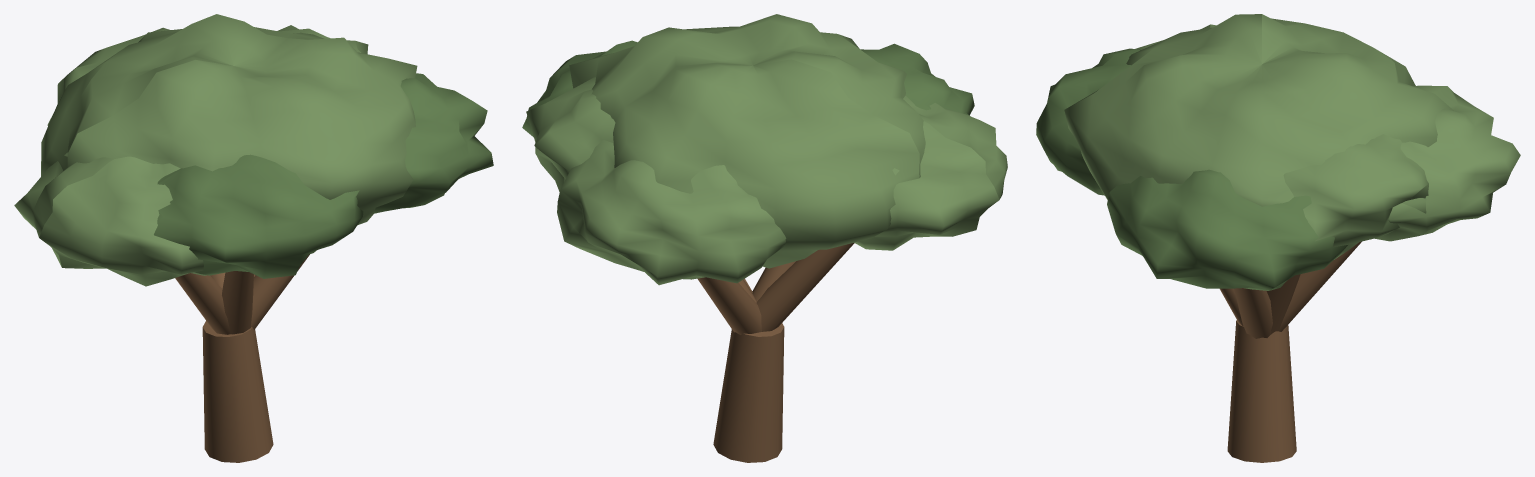
File: naspolya.glb
3 renders of one model, left to right at view 1: azimuth 30°, elevation 25°; view 2: azimuth 150°, elevation 25°; view 3: azimuth 270°, elevation 25°, orthographic.
Parts seen in each view (by area): view 1: korona-tomeg, korona-4, korona-1, korona-2, torzs, ag-1, ag-4, ag-2, korona-3; view 2: korona-tomeg, korona-3, korona-1, torzs, korona-5, ag-1, korona-4, ag-3, korona-2, ag-4; view 3: korona-tomeg, korona-2, korona-3, korona-5, torzs, korona-4, ag-2, ag-3, ag-5.
Part boxes in pixels (x1,y1,x2,y2): korona-tomeg: (41, 14, 417, 225); korona-4: (143, 154, 363, 278); korona-1: (14, 152, 206, 286); korona-2: (373, 73, 493, 213); torzs: (202, 321, 273, 462); ag-1: (175, 273, 230, 334); ag-4: (222, 271, 253, 334); ag-2: (251, 254, 309, 329); korona-3: (47, 27, 170, 125); korona-tomeg: (563, 14, 925, 268); korona-3: (549, 140, 786, 285); korona-1: (854, 96, 1007, 250); torzs: (713, 323, 784, 462); korona-5: (526, 77, 615, 179); ag-1: (756, 243, 854, 331); korona-4: (860, 43, 974, 115); ag-3: (697, 277, 761, 334); korona-2: (522, 40, 637, 137); ag-4: (752, 261, 795, 301); korona-tomeg: (1064, 14, 1453, 259); korona-2: (1107, 169, 1347, 290); korona-3: (1375, 85, 1520, 241); korona-5: (1283, 134, 1428, 247); torzs: (1227, 320, 1296, 462); korona-4: (1036, 48, 1140, 195); ag-2: (1234, 288, 1272, 338); ag-3: (1278, 241, 1361, 331); ag-5: (1266, 274, 1300, 333).
Size of the model in its own units: 5.03 by 4.33 by 4.72.
